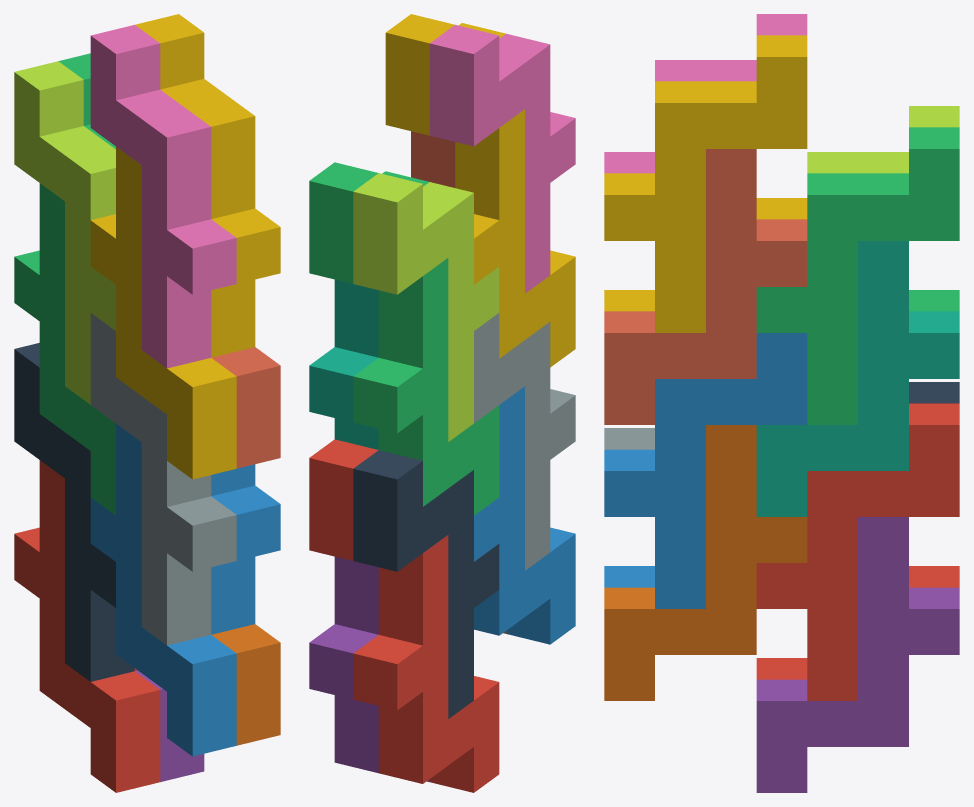
File: tiling.obj
3 views of the same model, side by side, from view 1: azimuth 30°, elevation 25°; view 2: azimuth 150°, elevation 25°; view 3: azimuth 270°, elevation 25° (orthographic).
Parts seen in each view (by area): view 1: copy_2_domain_4, copy_2_domain_2, copy_2_domain_3, copy_1_domain_1, copy_1_domain_4, copy_1_domain_2, copy_2_domain_8, copy_2_domain_1, copy_1_domain_3, copy_2_domain_6, copy_1_domain_8, copy_1_domain_6 (+2 smaller); view 2: copy_1_domain_1, copy_1_domain_3, copy_2_domain_4, copy_2_domain_3, copy_2_domain_1, copy_1_domain_4, copy_1_domain_2, copy_2_domain_2, copy_1_domain_5, copy_1_domain_7, copy_2_domain_7, copy_2_domain_8 (+2 smaller); view 3: copy_2_domain_8, copy_2_domain_7, copy_1_domain_5, copy_1_domain_8, copy_1_domain_7, copy_2_domain_6, copy_1_domain_6, copy_2_domain_5, copy_2_domain_4, copy_2_domain_3, copy_1_domain_1, copy_1_domain_4 (+4 smaller).
Part boxes in pixels (left/top/right/bottom): copy_2_domain_4: left=90, top=24, right=236, bottom=368; copy_2_domain_2: left=90, top=313, right=236, bottom=645; copy_2_domain_3: left=14, top=61, right=115, bottom=404; copy_1_domain_1: left=14, top=460, right=160, bottom=792; copy_1_domain_4: left=90, top=146, right=236, bottom=479; copy_1_domain_2: left=90, top=424, right=236, bottom=756; copy_2_domain_8: left=135, top=14, right=280, bottom=357; copy_2_domain_1: left=14, top=343, right=134, bottom=681; copy_1_domain_3: left=14, top=183, right=115, bottom=515; copy_2_domain_6: left=211, top=464, right=280, bottom=634; copy_1_domain_8: left=211, top=347, right=280, bottom=468; copy_1_domain_6: left=211, top=624, right=280, bottom=745; copy_1_domain_1: left=353, top=535, right=499, bottom=792; copy_1_domain_3: left=353, top=258, right=499, bottom=515; copy_2_domain_4: left=429, top=24, right=575, bottom=293; copy_2_domain_3: left=353, top=173, right=499, bottom=441; copy_2_domain_1: left=353, top=450, right=499, bottom=718; copy_1_domain_4: left=455, top=109, right=575, bottom=367; copy_1_domain_2: left=474, top=386, right=575, bottom=644; copy_2_domain_2: left=474, top=313, right=575, bottom=570; copy_1_domain_5: left=309, top=556, right=429, bottom=781; copy_1_domain_7: left=309, top=279, right=378, bottom=449; copy_2_domain_7: left=309, top=162, right=428, bottom=283; copy_2_domain_8: left=385, top=14, right=505, bottom=135; copy_2_domain_8: left=604, top=35, right=807, bottom=332; copy_2_domain_7: left=756, top=127, right=959, bottom=424; copy_1_domain_5: left=756, top=517, right=959, bottom=792; copy_1_domain_8: left=604, top=149, right=807, bottom=424; copy_1_domain_7: left=756, top=241, right=959, bottom=516; copy_2_domain_6: left=604, top=333, right=807, bottom=608; copy_1_domain_6: left=604, top=425, right=807, bottom=700; copy_2_domain_5: left=756, top=403, right=959, bottom=700; copy_2_domain_4: left=604, top=14, right=807, bottom=173; copy_2_domain_3: left=807, top=106, right=959, bottom=173; copy_1_domain_1: left=756, top=566, right=959, bottom=679; copy_1_domain_4: left=604, top=198, right=807, bottom=311.
Bounding box in the file's own units: 2 × 16 × 7.
